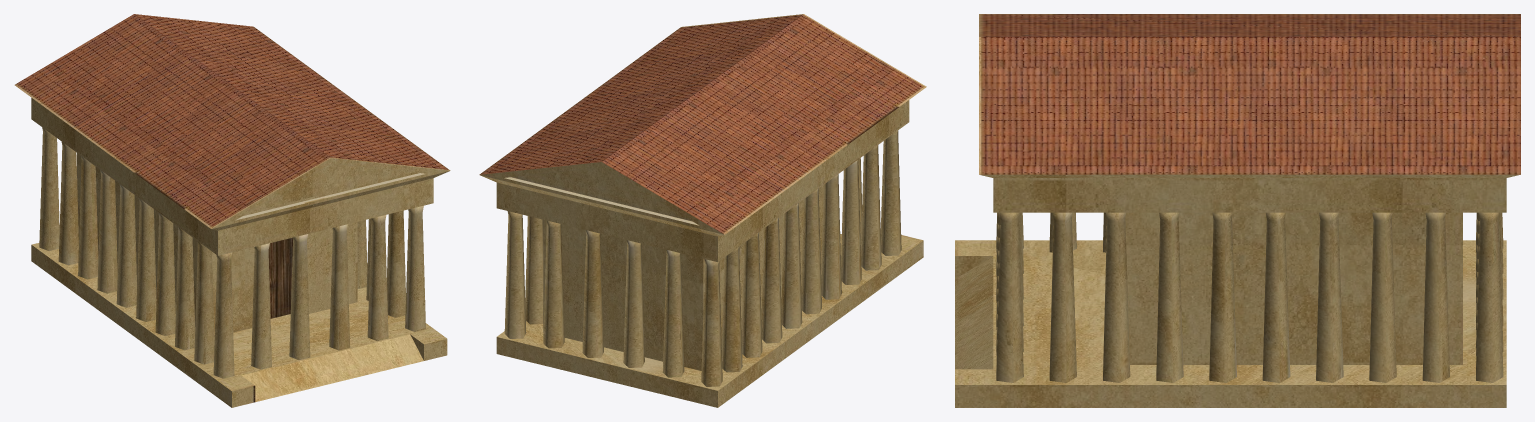
The model's file is Low_Poly_Roman_Temple_WIP.glb.
3 views of the same model, side by side, from view 1: azimuth 30°, elevation 25°; view 2: azimuth 150°, elevation 25°; view 3: azimuth 270°, elevation 25° (orthographic). The views are drawn at different scales.
Parts seen in each view (by area): view 1: unnamed; view 2: unnamed; view 3: unnamed.
Part boxes in pixels (x1,y1,x2,y2): unnamed: [14, 14, 450, 407]; unnamed: [479, 14, 926, 407]; unnamed: [955, 14, 1520, 407].
Size of the model in its own units: 0.6833 by 0.5922 by 1.02.
1 material, 1 textured.
